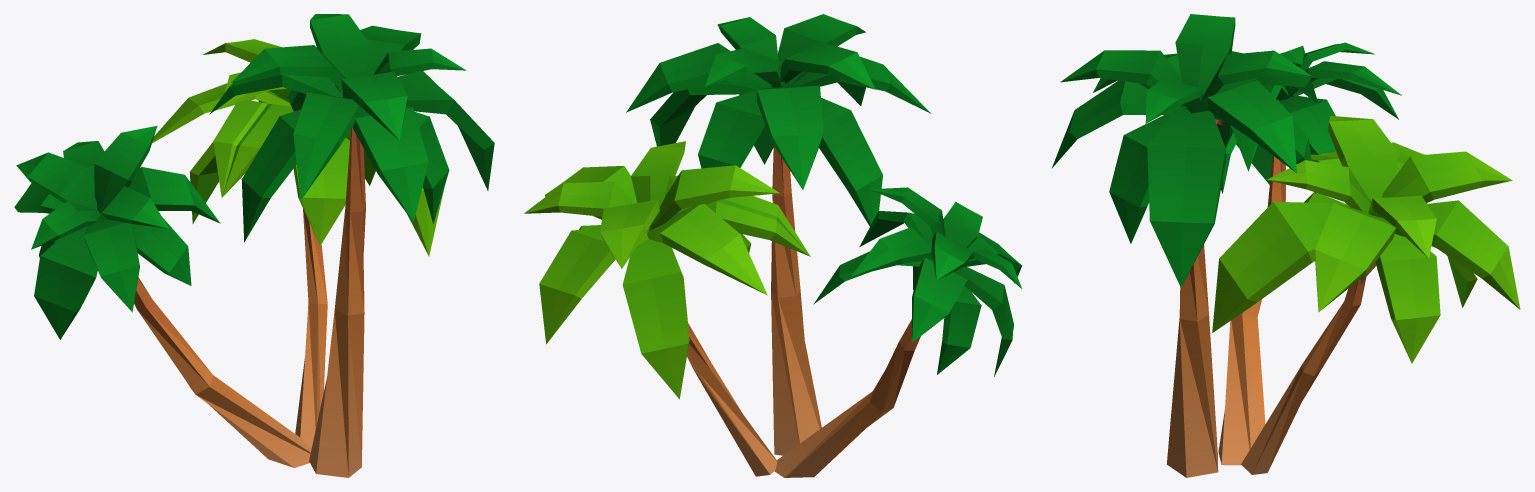
Rendered from GL-Palmtree-04-LOD2.fbx.
The picture shows the model from 3 angles, left to right: view 1: azimuth 30°, elevation 25°; view 2: azimuth 150°, elevation 25°; view 3: azimuth 270°, elevation 25°; orthographic projection. The views are drawn at different scales.
Visible parts, largest first — view 1: GL_Palmtree_04; view 2: GL_Palmtree_04; view 3: GL_Palmtree_04.
Boxes of the visible parts, left/top/right/bottom form: GL_Palmtree_04: left=14, top=14, right=494, bottom=477; GL_Palmtree_04: left=524, top=14, right=1022, bottom=477; GL_Palmtree_04: left=1052, top=14, right=1520, bottom=477.
Bounding box in the file's own units: 7.56 × 6.6 × 6.58.
